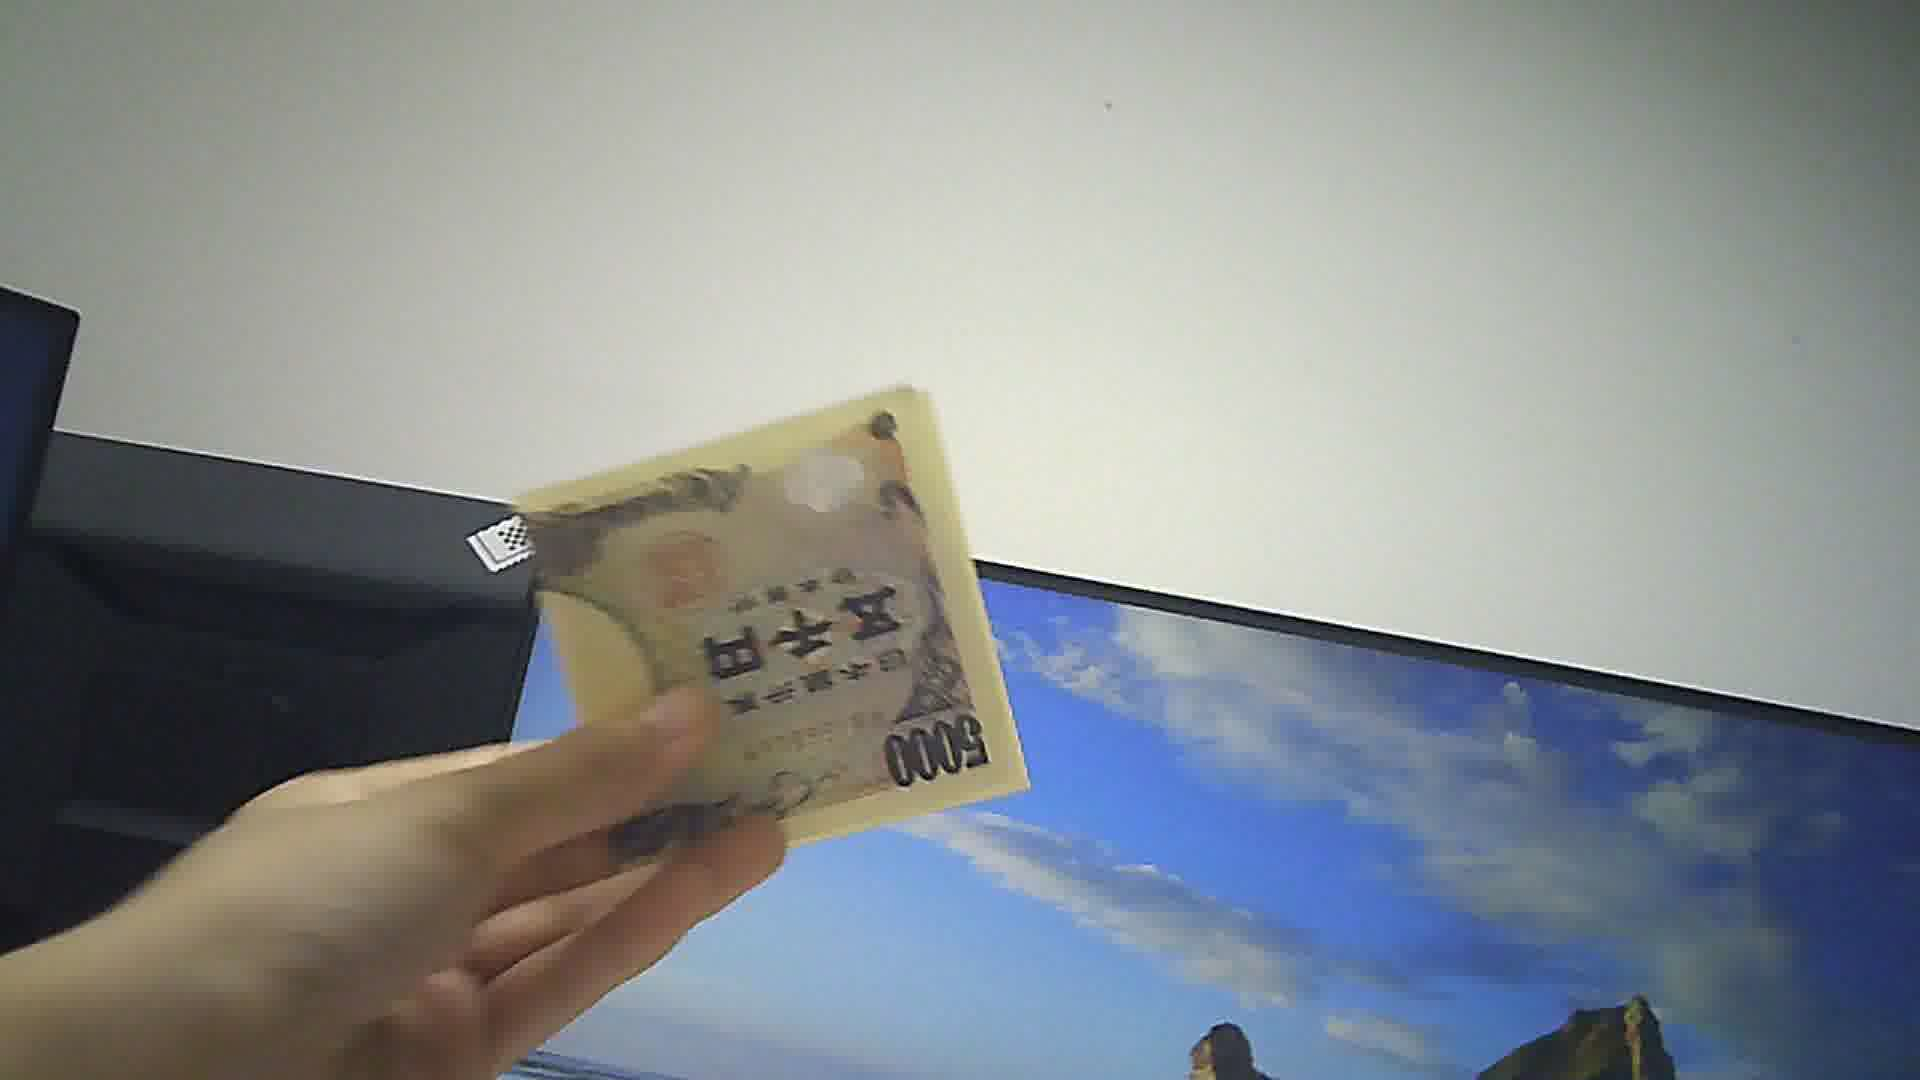5,000 Yen: (501, 382, 1022, 849)
